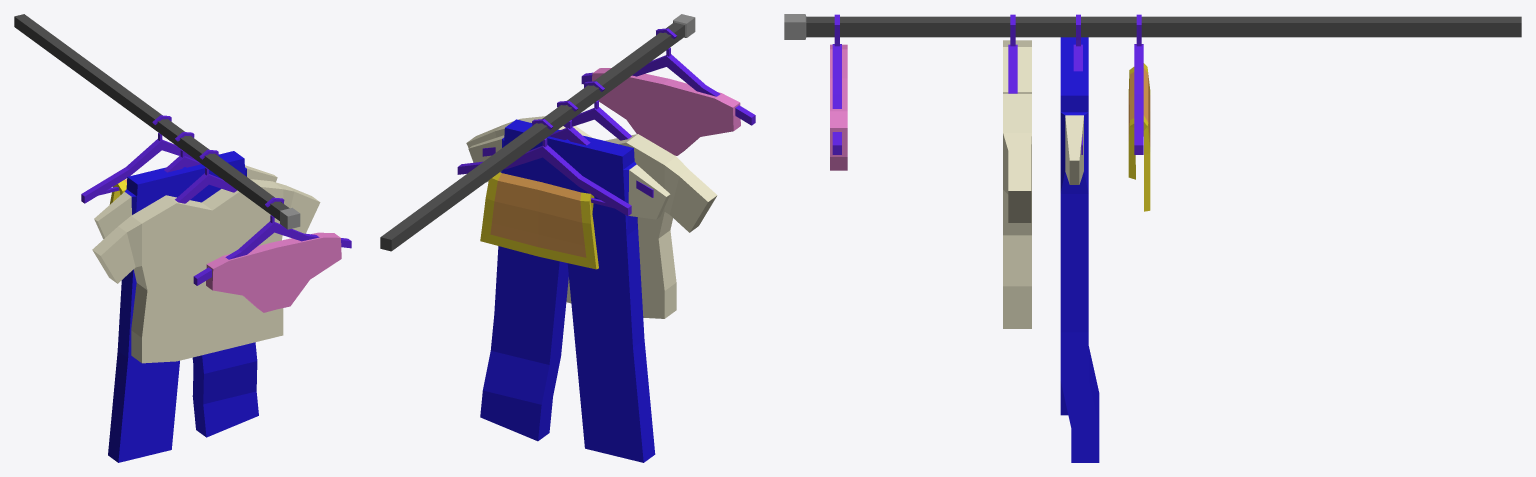
Rendered from clothes1.fbx.
3 views of the same model, side by side, from view 1: azimuth 30°, elevation 25°; view 2: azimuth 150°, elevation 25°; view 3: azimuth 270°, elevation 25° (orthographic). The views are drawn at different scales.
Parts seen in each view (by area): view 1: Cube; view 2: Cube; view 3: Cube.
Part boxes in pixels (bbox=[...]): Cube: bbox=[14, 14, 351, 462]; Cube: bbox=[380, 14, 755, 462]; Cube: bbox=[784, 14, 1521, 462].
Size of the model in its own units: 134 by 179 by 290.
